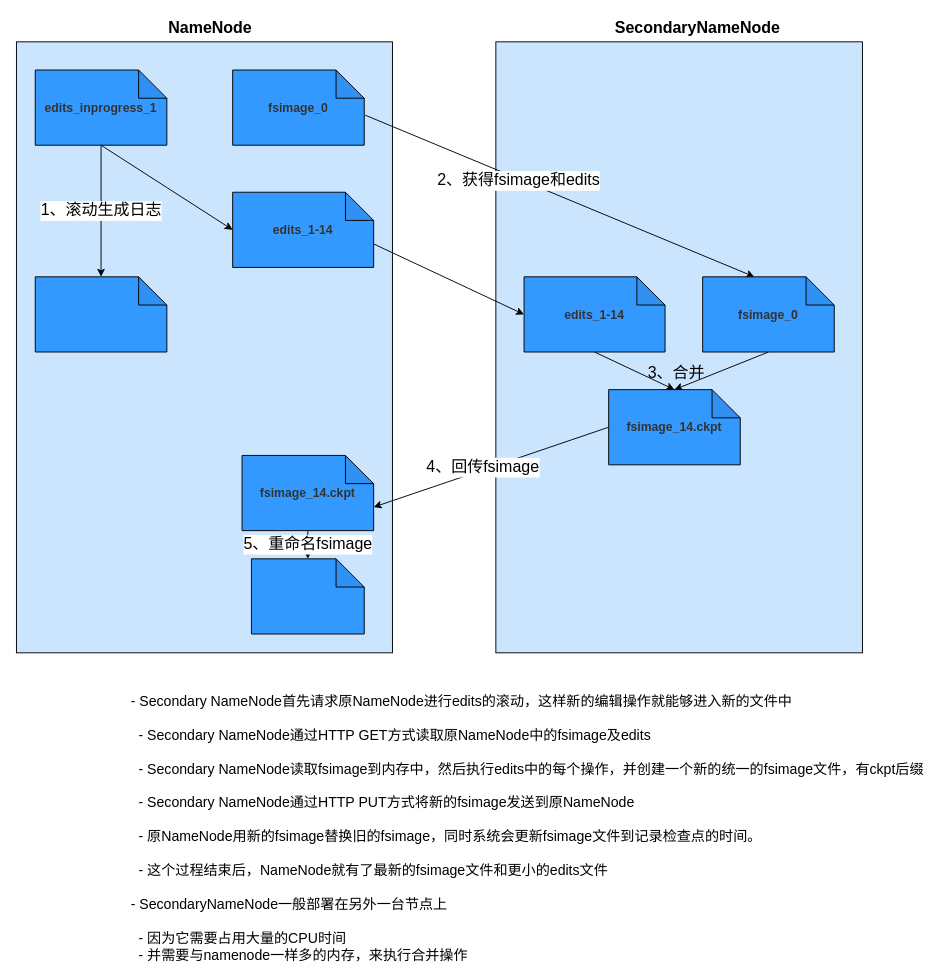
The diagram is 941 pixels wide and 979 high, and some of its shapes have lost their labels. The shapes that lost their labels are listed below. From the top down, each one's centre as x and y in pixels, then its label:
At point 100,314: "edits_inprogress_15".
At point 307,596: "fsimage_14".
